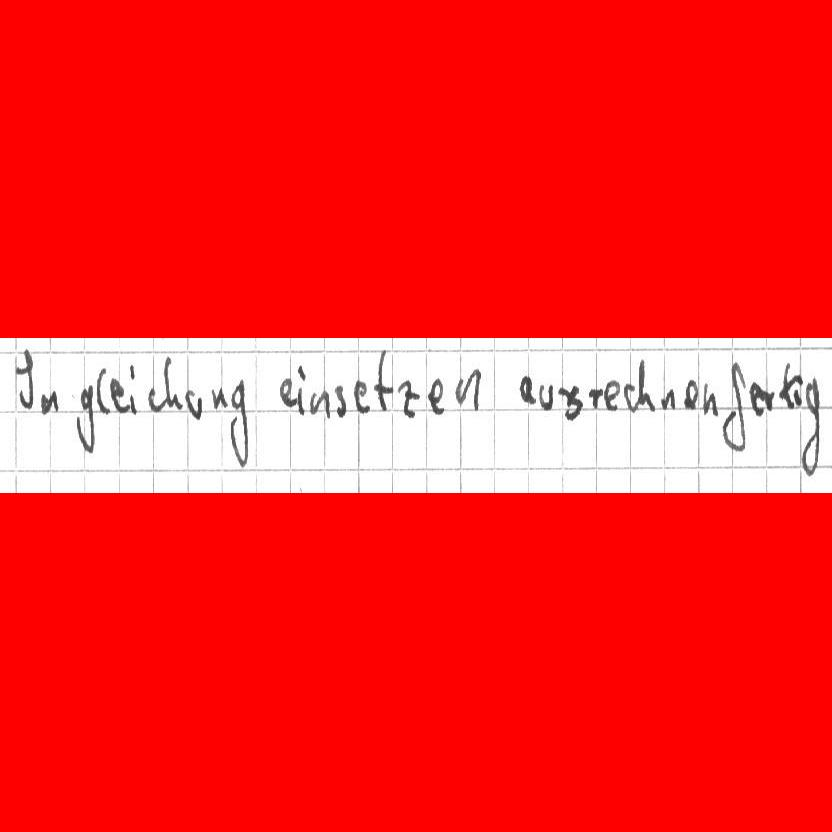Char: (720, 360, 748, 452), (225, 377, 250, 472), (801, 376, 821, 473), (625, 362, 657, 412), (74, 385, 95, 454), (13, 348, 34, 411), (453, 368, 481, 412), (372, 351, 391, 413), (161, 359, 181, 412), (397, 378, 419, 417), (782, 368, 801, 411), (425, 376, 445, 415), (562, 384, 582, 422), (94, 367, 110, 414), (106, 376, 125, 414), (310, 386, 331, 419), (294, 363, 307, 414), (352, 379, 369, 415), (603, 378, 621, 412), (277, 375, 294, 411), (332, 382, 348, 420), (127, 365, 139, 415), (185, 390, 204, 421), (39, 387, 59, 415), (209, 385, 231, 410), (517, 374, 534, 406), (749, 380, 763, 417), (703, 386, 719, 417), (537, 381, 553, 412), (683, 377, 698, 410), (144, 383, 161, 412), (659, 385, 678, 410), (585, 385, 603, 411), (760, 390, 776, 410)
